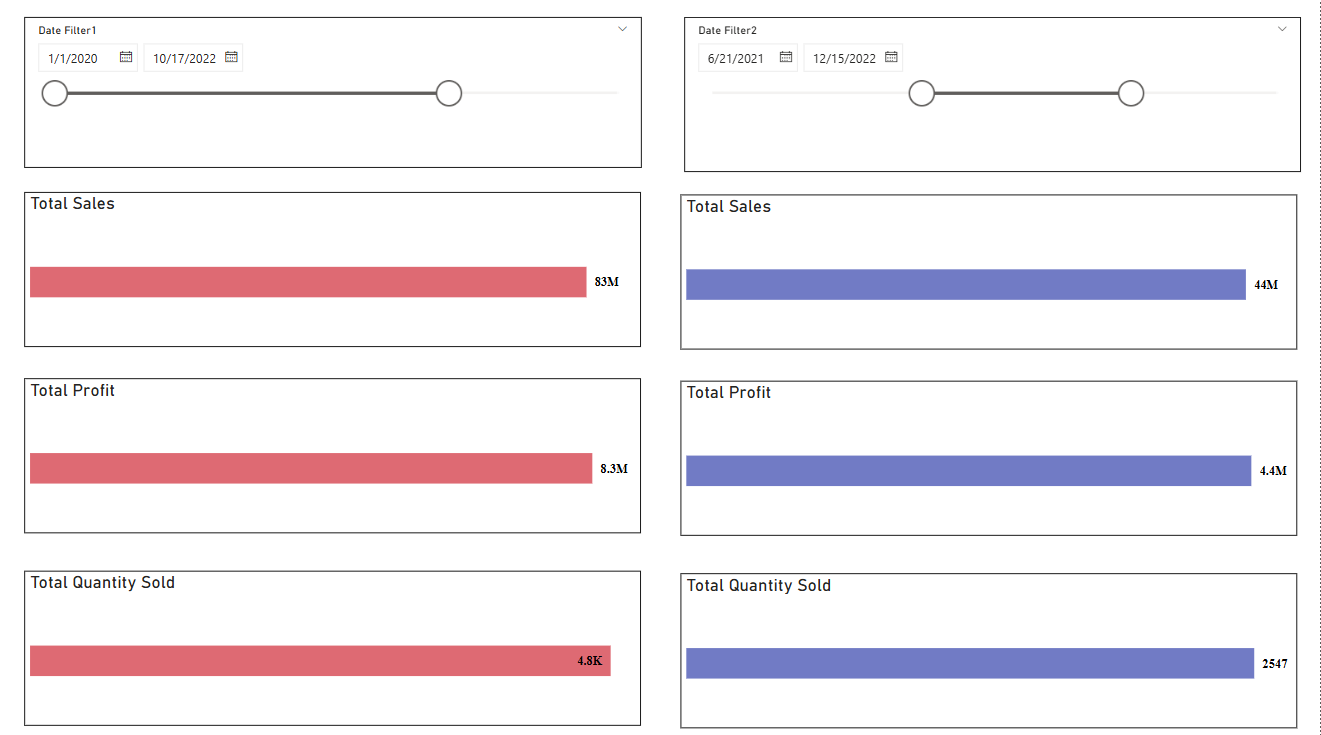

This screenshot's page, from the dashboard's own definition file:
{"tool":"powerbi","page":{"name":"Two period comparison by edit interact","canvas":[1280,720],"ordinal":3},"visuals":[{"type":"slicer","fields":{"Values":["Fact Table.Date (dd/mm/yyyy)"]},"box":[30.2,24.7,595.5,145.5],"z":0},{"type":"slicer","fields":{"Values":["Fact Table.Date (dd/mm/yyyy)"]},"box":[666.9,24.7,595.5,149.6],"z":1000},{"type":"barChart","title":"Total Sales","fields":{"Y":["Sum(Fact Table.Net Sales)"]},"box":[30.2,193.5,595.5,149.6],"z":2000},{"type":"barChart","title":"Total Profit","fields":{"Y":["Sum(Fact Table.Profit)"]},"box":[30.2,373.2,595.5,149.6],"z":3000},{"type":"barChart","title":"Total Quantity Sold","fields":{"Y":["Sum(Fact Table.Units Sold)"]},"box":[30.2,558.5,595.5,149.6],"z":4000},{"type":"barChart","title":"Total Sales","fields":{"Y":["Sum(Fact Table.Net Sales)"]},"box":[663.7,195.8,595.5,149.6],"z":5000},{"type":"barChart","title":"Total Profit","fields":{"Y":["Sum(Fact Table.Profit)"]},"box":[663.7,375.6,595.5,149.6],"z":6000},{"type":"barChart","title":"Total Quantity Sold","fields":{"Y":["Sum(Fact Table.Units Sold)"]},"box":[663.7,560.8,595.5,149.6],"z":7000}]}

Visuals, with their boxes in screenshot pixels (x1, y1, x2, y2), scaled from the page's 1280x720 canvas onto the 1321x735 screenshot:
slicer - Fact Table.Date (dd/mm/yyyy): 31:25:646:174
slicer - Fact Table.Date (dd/mm/yyyy): 688:25:1303:178
"Total Sales" barChart: 31:198:646:350
"Total Profit" barChart: 31:381:646:534
"Total Quantity Sold" barChart: 31:570:646:723
"Total Sales" barChart: 685:200:1300:353
"Total Profit" barChart: 685:383:1300:536
"Total Quantity Sold" barChart: 685:572:1300:725
